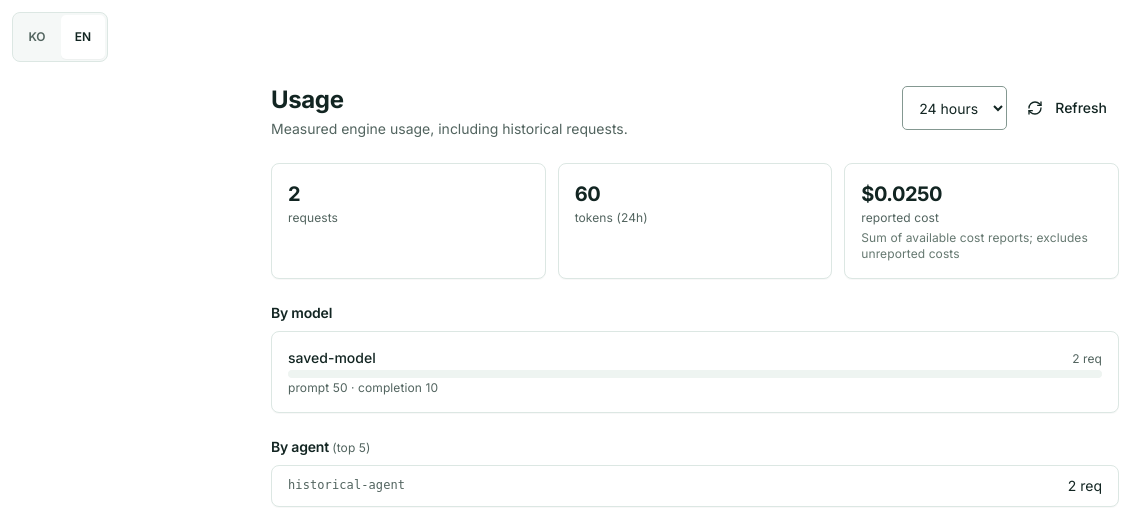
it: Usage screen › switches visible copy to Korean without changing the loaded usage data
Expected: the text "saved-model" is shown, [288, 348, 376, 368]
Expected: the heading "Usage" is shown, [271, 85, 344, 114]
Click the button with aria-label "한국어". click: point(37, 37)
box: [15, 15, 59, 59]
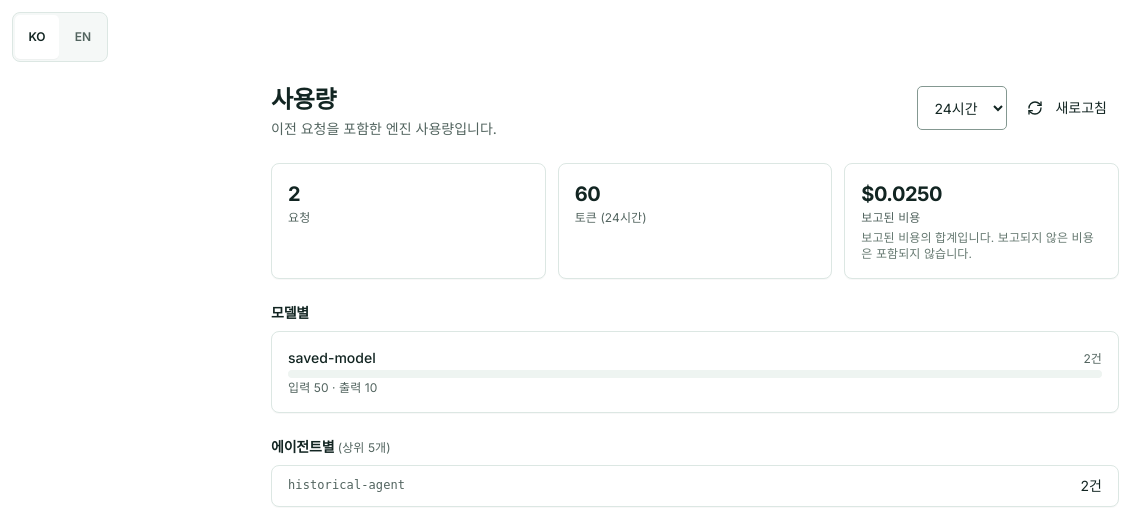
Expected: the text "saved-model" is shown, [288, 348, 376, 368]
Expected: the heading "사용량" is shown, [271, 85, 336, 114]
Expected: the heading "모델별" is shown, [271, 304, 309, 321]
